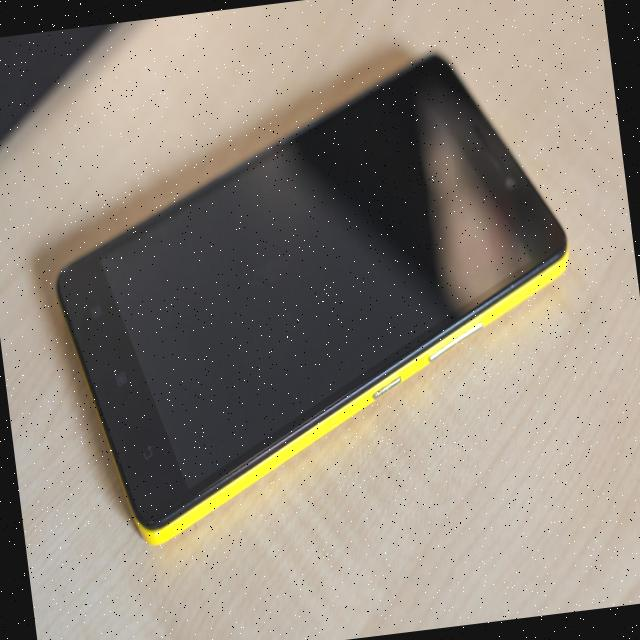Phone: (25, 28, 608, 575)
